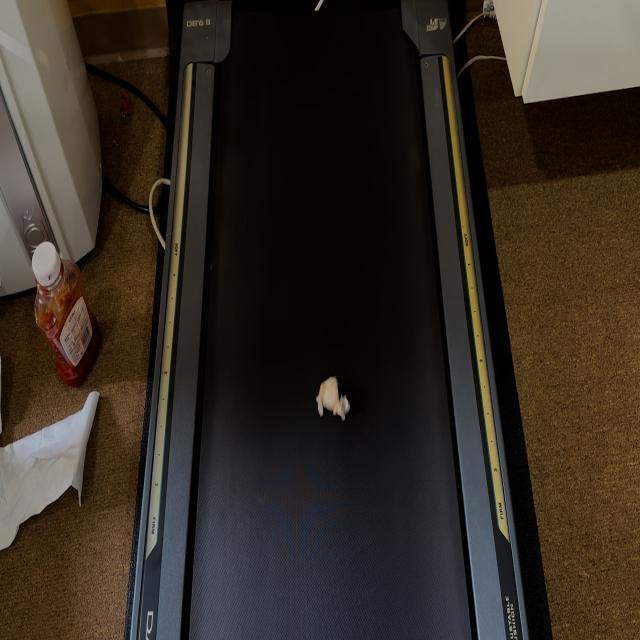Trash: (316, 376, 353, 424)
